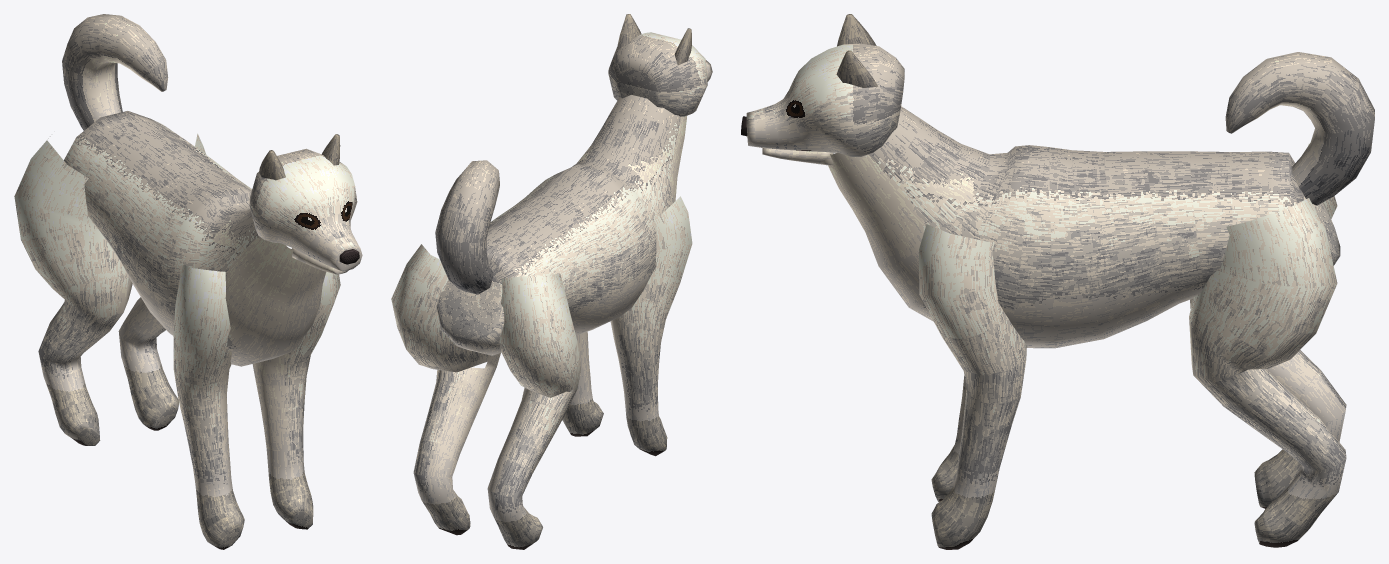
Rendered from dog_ghost.glb.
3 views of the same model, side by side, from view 1: azimuth 30°, elevation 25°; view 2: azimuth 150°, elevation 25°; view 3: azimuth 270°, elevation 25° (orthographic). The views are drawn at different scales.
Visible parts, largest first — view 1: dog_ghost; view 2: dog_ghost; view 3: dog_ghost.
Part boxes in pixels (x1,y1,x2,y2): dog_ghost: (14, 14, 362, 549); dog_ghost: (391, 14, 712, 549); dog_ghost: (741, 14, 1374, 549).
Size of the model in its own units: 0.2465 by 0.5454 by 0.6336.
1 material, 1 textured.
